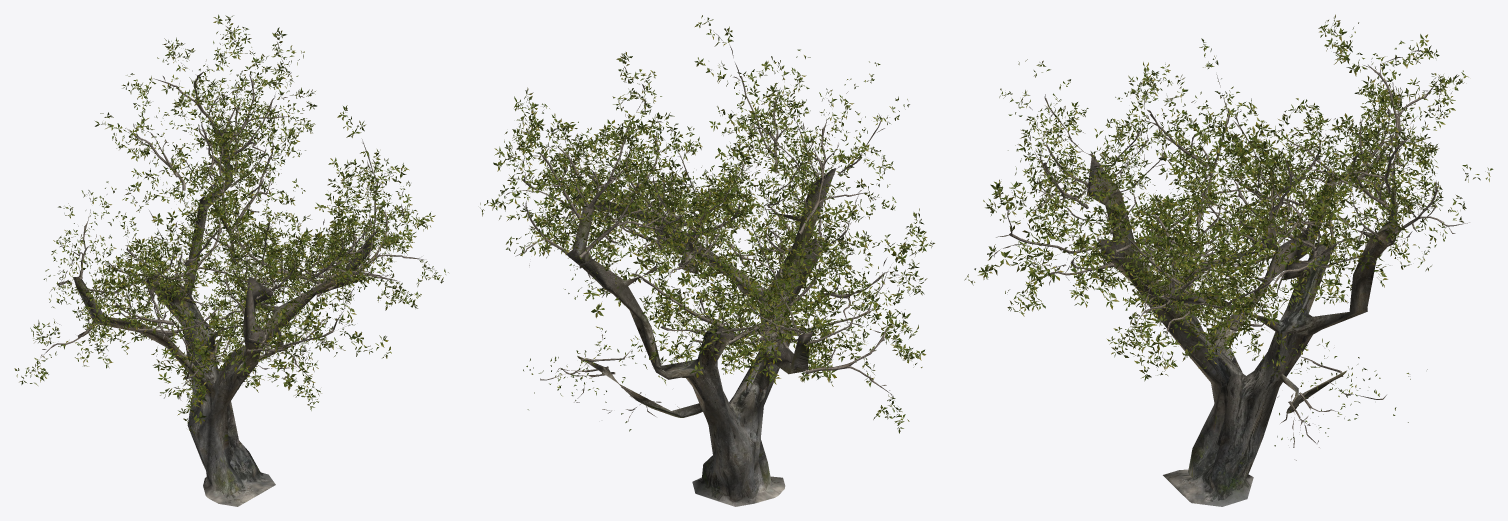
The model's file is island_tree_01-low.glb.
The picture shows the model from 3 angles, left to right: view 1: azimuth 30°, elevation 25°; view 2: azimuth 150°, elevation 25°; view 3: azimuth 270°, elevation 25°; orthographic projection. The views are drawn at different scales.
Visible parts, largest first — view 1: island_tree_01_LOD0; view 2: island_tree_01_LOD0; view 3: island_tree_01_LOD0.
Part boxes in pixels (x1=…): island_tree_01_LOD0: x1=14, y1=14, x2=448, y2=506; island_tree_01_LOD0: x1=480, y1=15, x2=934, y2=506; island_tree_01_LOD0: x1=964, y1=14, x2=1493, y2=506.
Bounding box in the file's own units: 4.74 × 5.02 × 4.81.
Materials: 3 (3 with a texture image).
